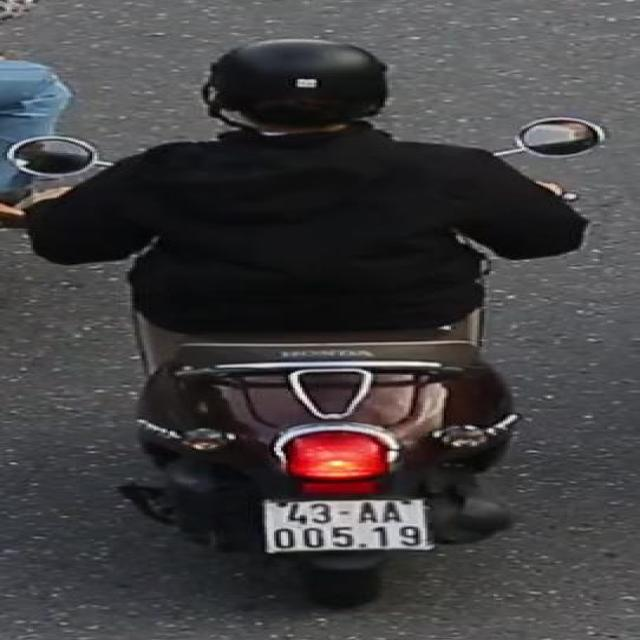LP: (254, 496, 438, 560)
helmet: (195, 34, 402, 145)
